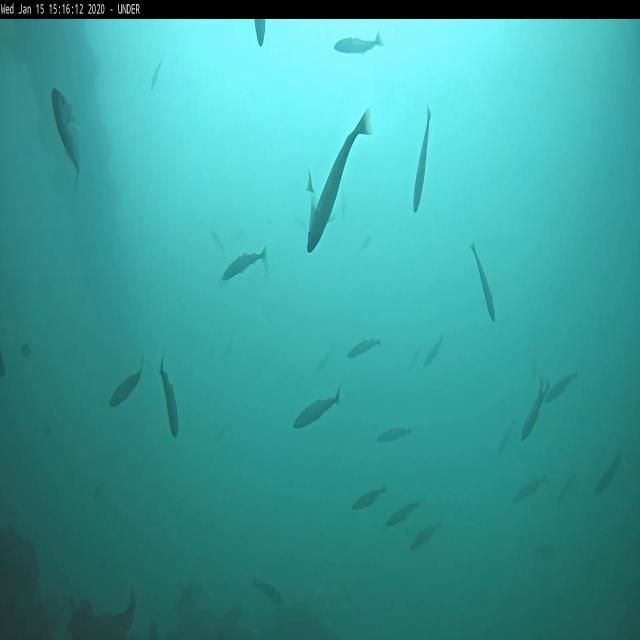fish: (306, 109, 373, 253), (51, 89, 82, 191), (471, 239, 497, 325), (413, 106, 431, 215), (108, 356, 144, 408), (522, 378, 550, 444), (295, 389, 341, 429), (160, 354, 180, 438), (223, 247, 266, 280), (333, 33, 383, 59), (593, 453, 621, 499), (546, 370, 580, 402), (386, 498, 421, 528), (410, 522, 443, 552), (352, 484, 388, 510), (512, 476, 546, 502), (253, 578, 283, 606), (346, 340, 381, 360), (376, 425, 414, 443), (558, 473, 578, 506), (423, 336, 442, 369), (150, 61, 162, 94), (254, 20, 267, 46), (211, 227, 225, 246)
